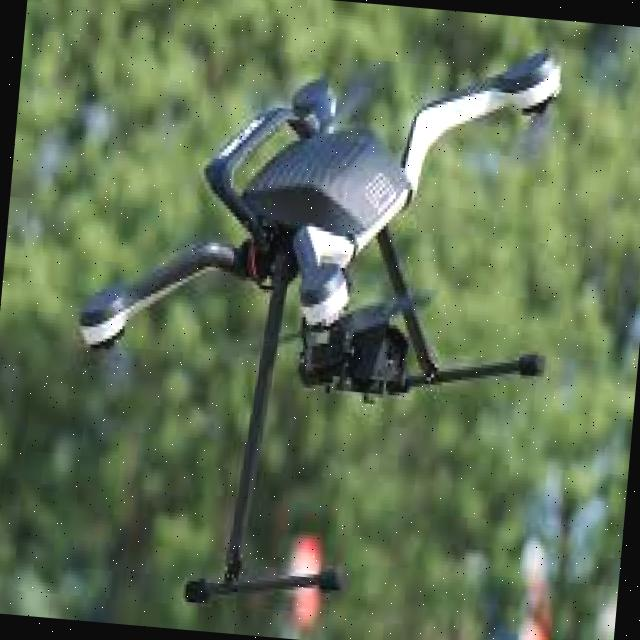drone: (55, 5, 584, 640)
